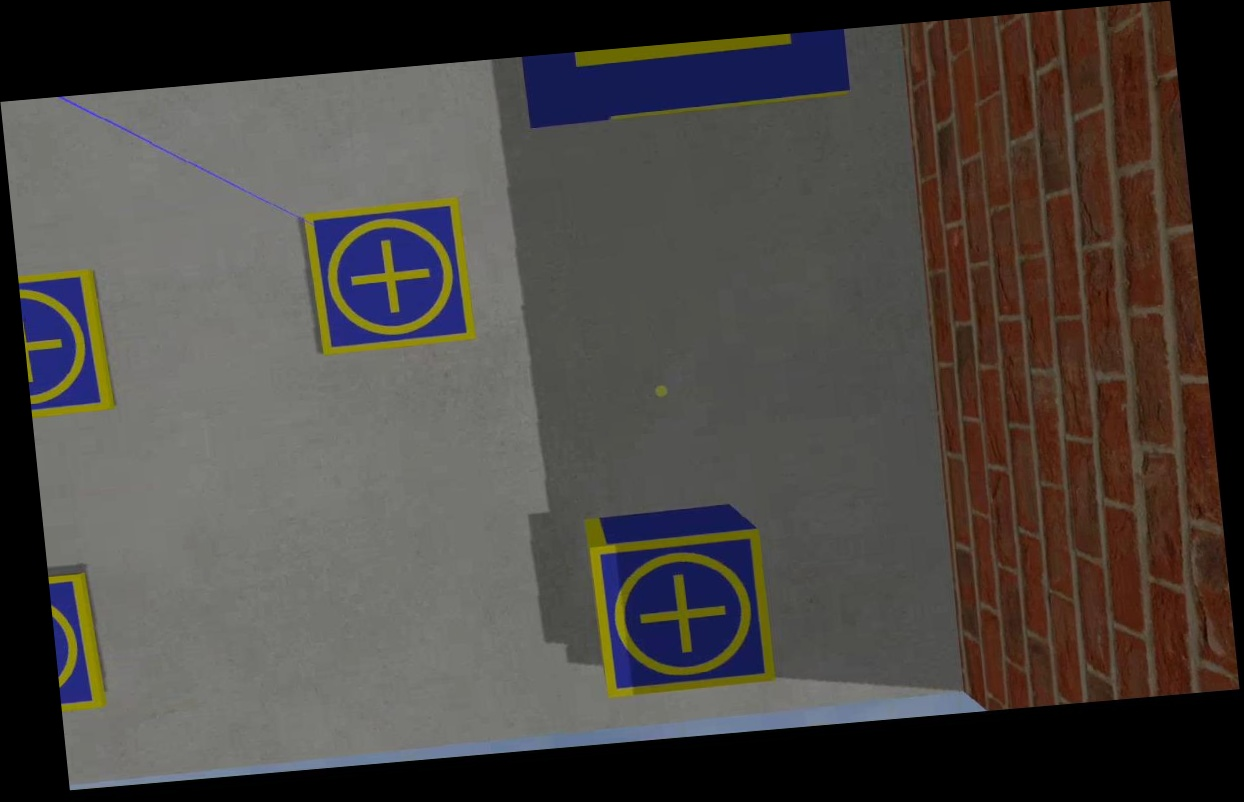large_base: (519, 29, 851, 133)
small_base: (588, 525, 778, 701), (302, 196, 481, 361), (18, 264, 119, 419), (48, 566, 108, 719)
